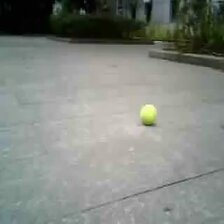tennis: (141, 104, 156, 124)
